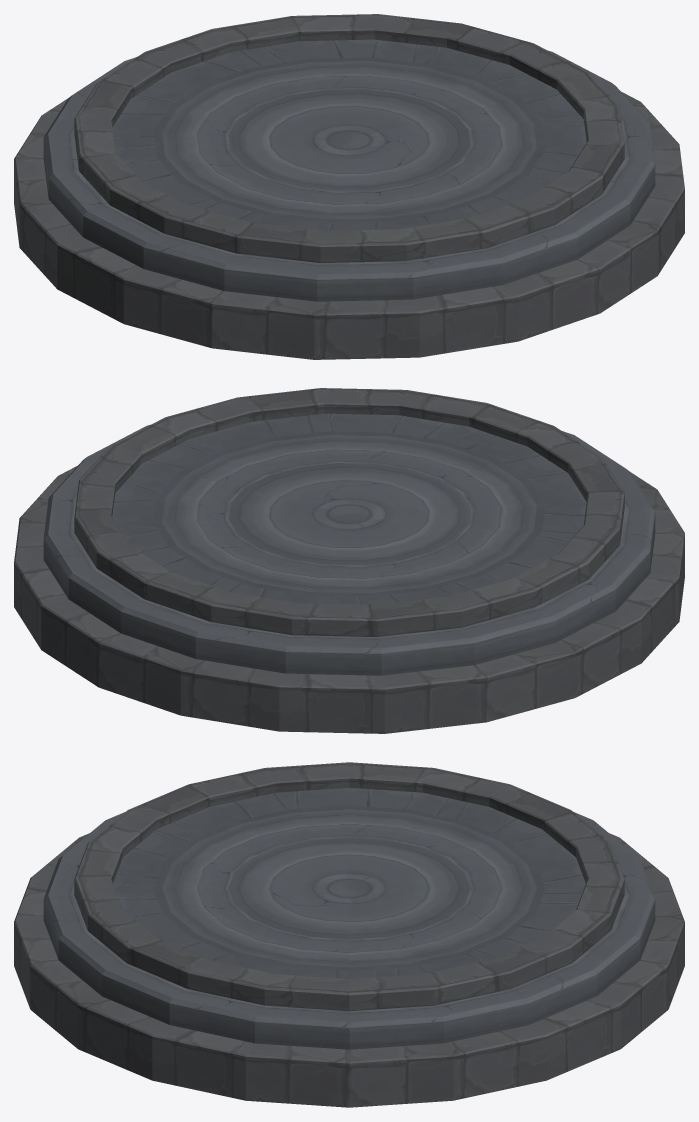
File: SM_Dais_01.fbx
3 views of the same model, one above another, from view 1: azimuth 30°, elevation 25°; view 2: azimuth 150°, elevation 25°; view 3: azimuth 270°, elevation 25° (orthographic).
Visible parts, largest first — view 1: SM_Dais_01; view 2: SM_Dais_01; view 3: SM_Dais_01.
Part boxes in pixels (left/top/right/bottom): SM_Dais_01: left=14, top=14, right=684, bottom=359; SM_Dais_01: left=14, top=388, right=684, bottom=733; SM_Dais_01: left=14, top=762, right=684, bottom=1107.
Bounding box in the file's own units: 721 × 104 × 721.
